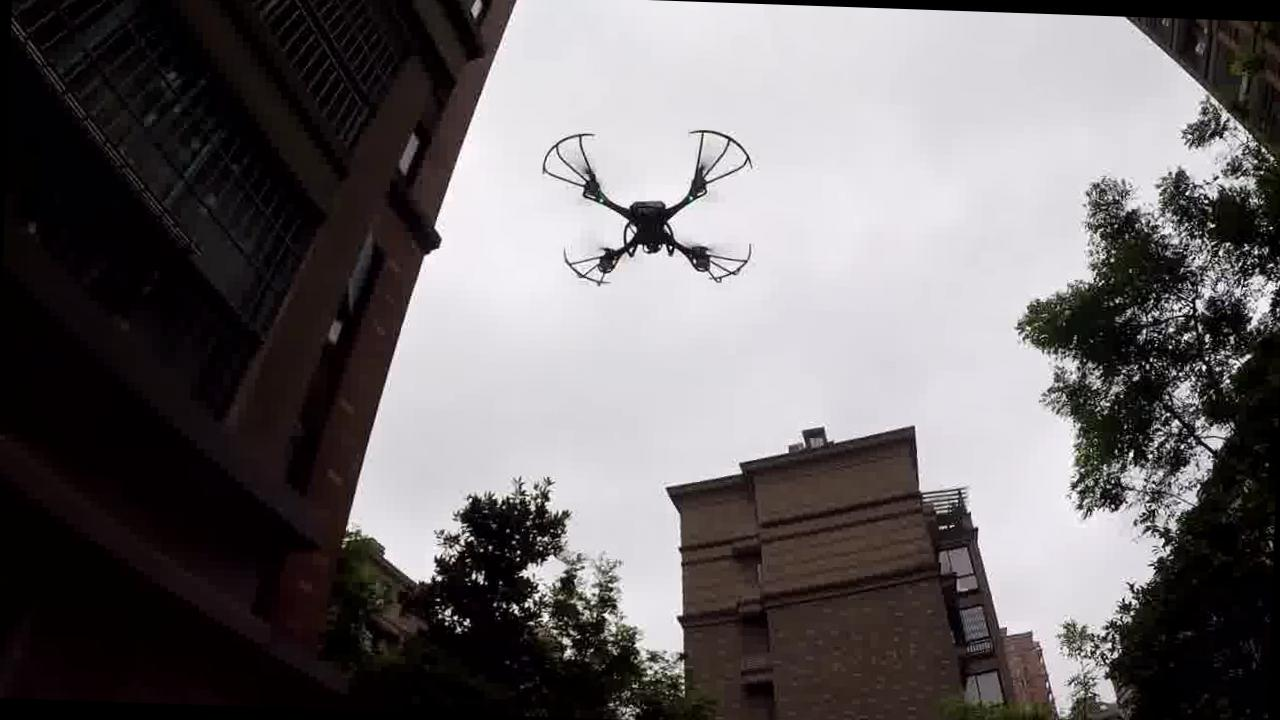drone: (540, 112, 770, 294)
